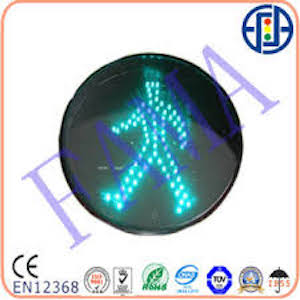green: (105, 69, 200, 224)
